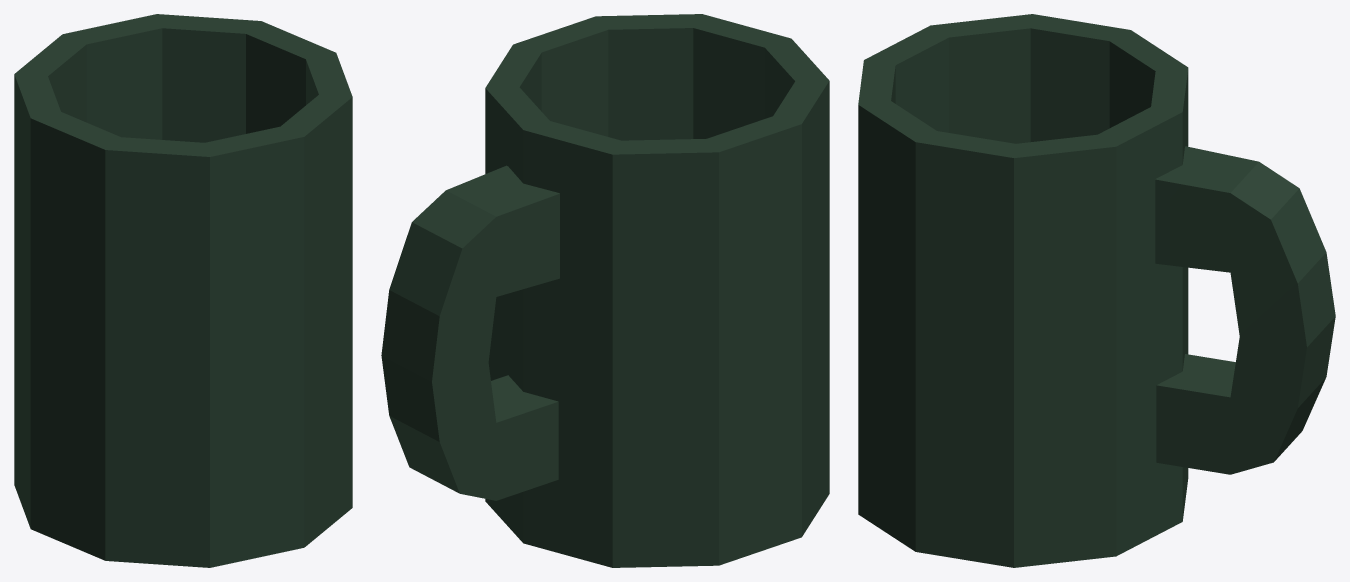
File: mug.fbx
The picture shows the model from 3 angles, left to right: view 1: azimuth 30°, elevation 25°; view 2: azimuth 150°, elevation 25°; view 3: azimuth 270°, elevation 25°; orthographic projection.
Visible parts, largest first — view 1: mug; view 2: mug; view 3: mug.
Boxes of the visible parts, x1,y1,x2,y2 form: mug: [14, 14, 352, 567]; mug: [381, 14, 829, 567]; mug: [858, 14, 1335, 567].
Size of the model in its own units: 83.37 by 110 by 117.
